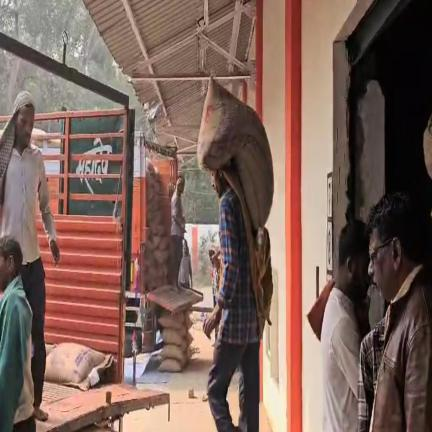Zone-Counting: (197, 78, 274, 432)
